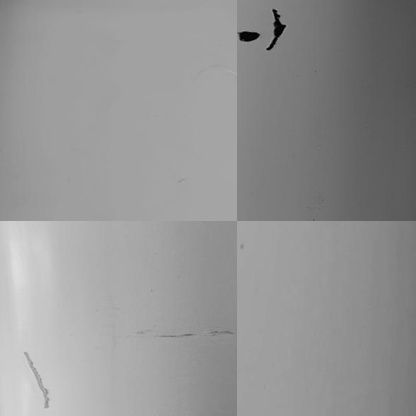kongdong: (268, 7, 291, 52), (237, 27, 259, 43)
sunshang: (24, 347, 51, 407)
